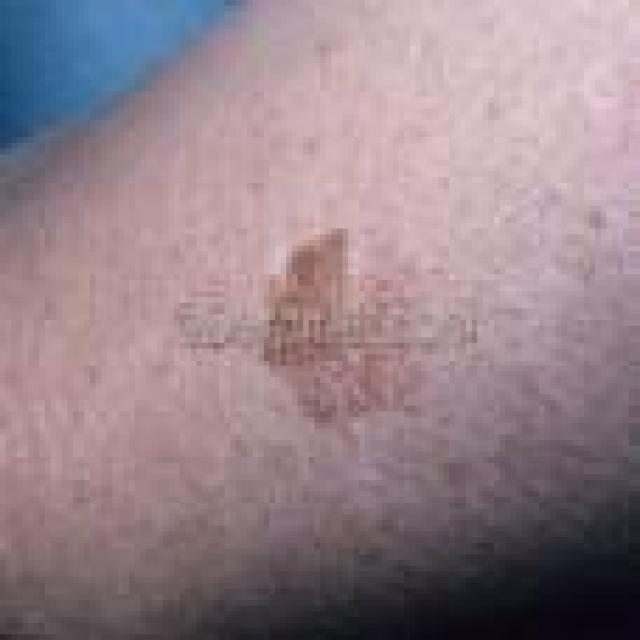Melasma: (251, 216, 418, 436)
